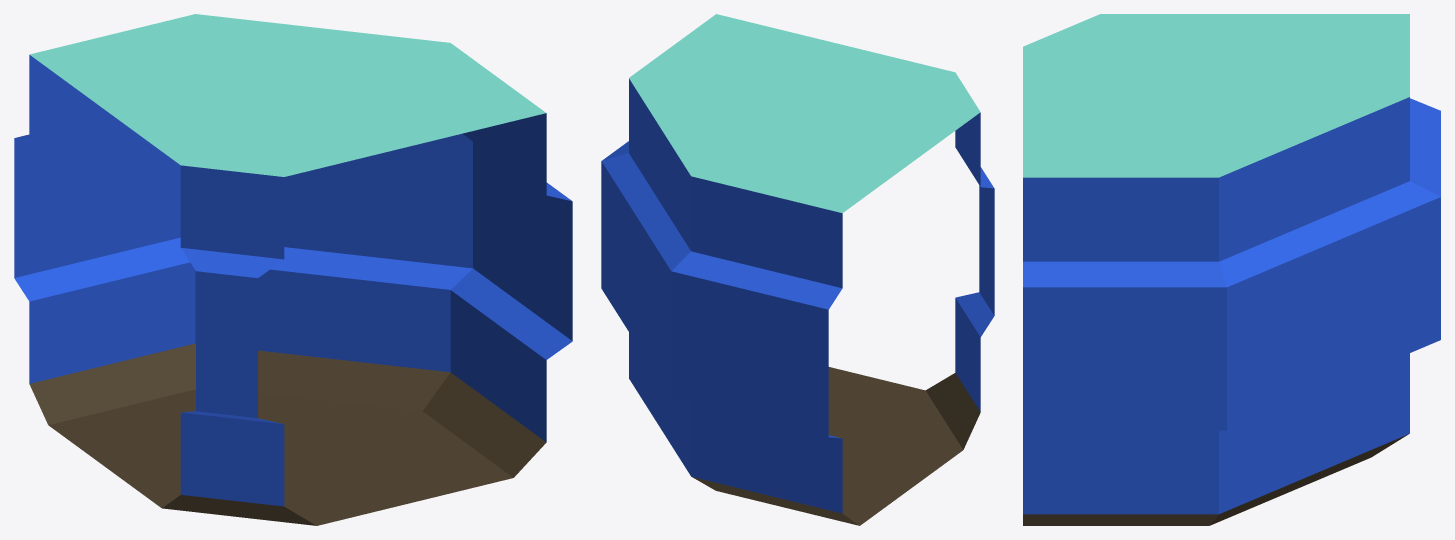
The model's file is Corner_Square.fbx.
3 views of the same model, side by side, from view 1: azimuth 30°, elevation 25°; view 2: azimuth 150°, elevation 25°; view 3: azimuth 270°, elevation 25° (orthographic). The views are drawn at different scales.
Visible parts, largest first — view 1: Corner_Square; view 2: Corner_Square; view 3: Corner_Square.
Boxes of the visible parts, x1,y1,x2,y2 form: Corner_Square: (14,14,572,525); Corner_Square: (601,14,994,525); Corner_Square: (1023,14,1440,525).
Size of the model in its own units: 2.7 by 2.6 by 2.7.
